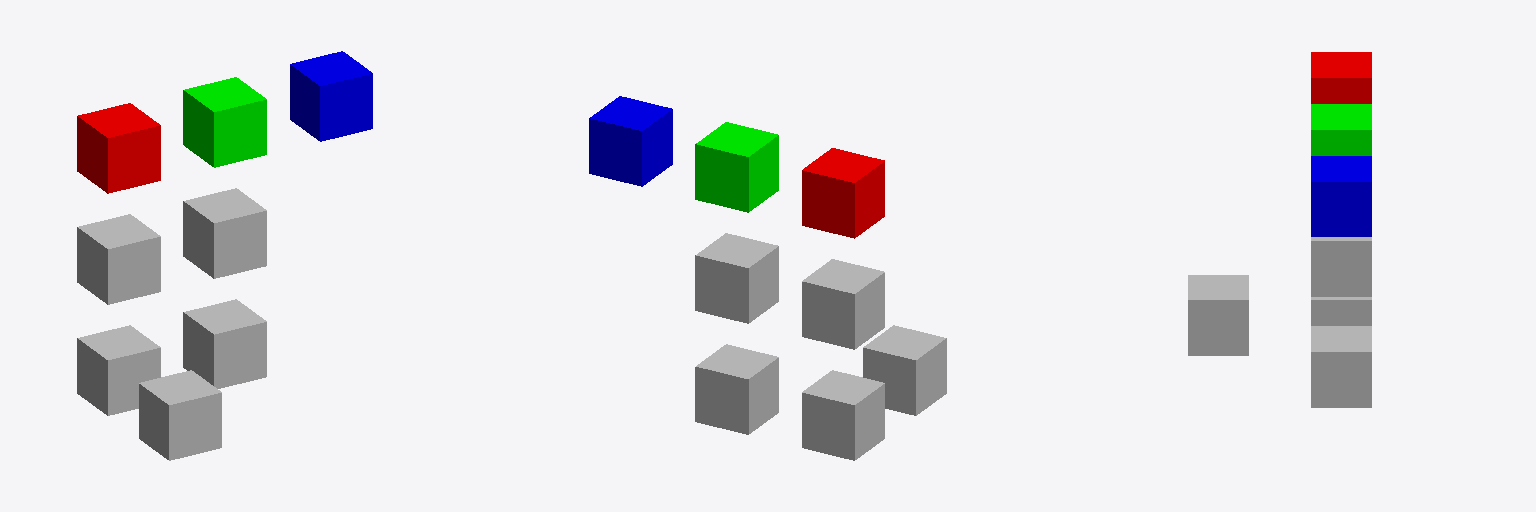
Rendered from container.obj.
3 views of the same model, side by side, from view 1: azimuth 30°, elevation 25°; view 2: azimuth 150°, elevation 25°; view 3: azimuth 270°, elevation 25° (orthographic).
Parts seen in each view (by area): view 1: TopContainer, RedCube_RedCubeMesh, FrontTopBox_FrontTopBoxMesh, GreenCube_GreenCubeMesh, LeftContainer_LeftContainerMesh, BlueCube_BlueCubeMesh, FrontBox_FrontBoxMesh, CenterContainer_CenterContainerMesh; view 2: GreenCube_GreenCubeMesh, BlueCube_BlueCubeMesh, FrontBox_FrontBoxMesh, FrontTopBox_FrontTopBoxMesh, RedCube_RedCubeMesh, TopContainer, CenterContainer_CenterContainerMesh, LeftContainer_LeftContainerMesh; view 3: FrontBox_FrontBoxMesh, LeftContainer_LeftContainerMesh, BlueCube_BlueCubeMesh, FrontTopBox_FrontTopBoxMesh, GreenCube_GreenCubeMesh, RedCube_RedCubeMesh, CenterContainer_CenterContainerMesh.
Boxes of the visible parts, <box> form: TopContainer: <box>77,214,160,304</box>; RedCube_RedCubeMesh: <box>77,103,160,193</box>; FrontTopBox_FrontTopBoxMesh: <box>183,188,266,278</box>; GreenCube_GreenCubeMesh: <box>183,77,266,167</box>; LeftContainer_LeftContainerMesh: <box>139,370,221,460</box>; BlueCube_BlueCubeMesh: <box>290,51,372,141</box>; FrontBox_FrontBoxMesh: <box>183,299,266,388</box>; CenterContainer_CenterContainerMesh: <box>77,325,160,415</box>; GreenCube_GreenCubeMesh: <box>695,122,778,212</box>; BlueCube_BlueCubeMesh: <box>589,96,672,186</box>; FrontBox_FrontBoxMesh: <box>695,344,778,434</box>; FrontTopBox_FrontTopBoxMesh: <box>695,233,778,323</box>; RedCube_RedCubeMesh: <box>802,148,884,238</box>; TopContainer: <box>802,259,884,349</box>; CenterContainer_CenterContainerMesh: <box>802,370,884,460</box>; LeftContainer_LeftContainerMesh: <box>863,325,946,415</box>; FrontBox_FrontBoxMesh: <box>1311,326,1371,407</box>; LeftContainer_LeftContainerMesh: <box>1188,275,1248,355</box>; BlueCube_BlueCubeMesh: <box>1311,156,1371,236</box>; FrontTopBox_FrontTopBoxMesh: <box>1311,237,1371,296</box>; GreenCube_GreenCubeMesh: <box>1311,104,1371,155</box>; RedCube_RedCubeMesh: <box>1311,52,1371,103</box>; CenterContainer_CenterContainerMesh: <box>1311,297,1371,325</box>.
Bounding box in the file's own units: 10 × 10 × 6.